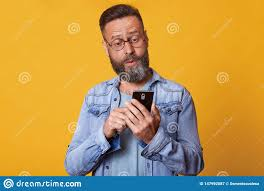white_male: (105, 13, 167, 105)
